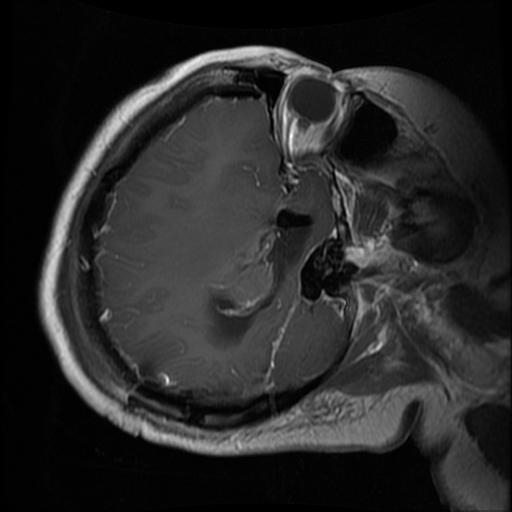glioma: (204, 206, 312, 352)
